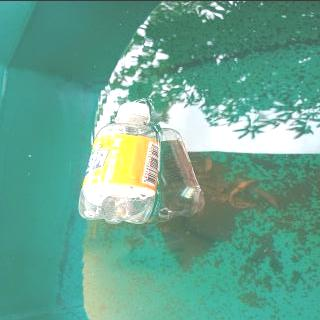bottle: (76, 99, 162, 225)
